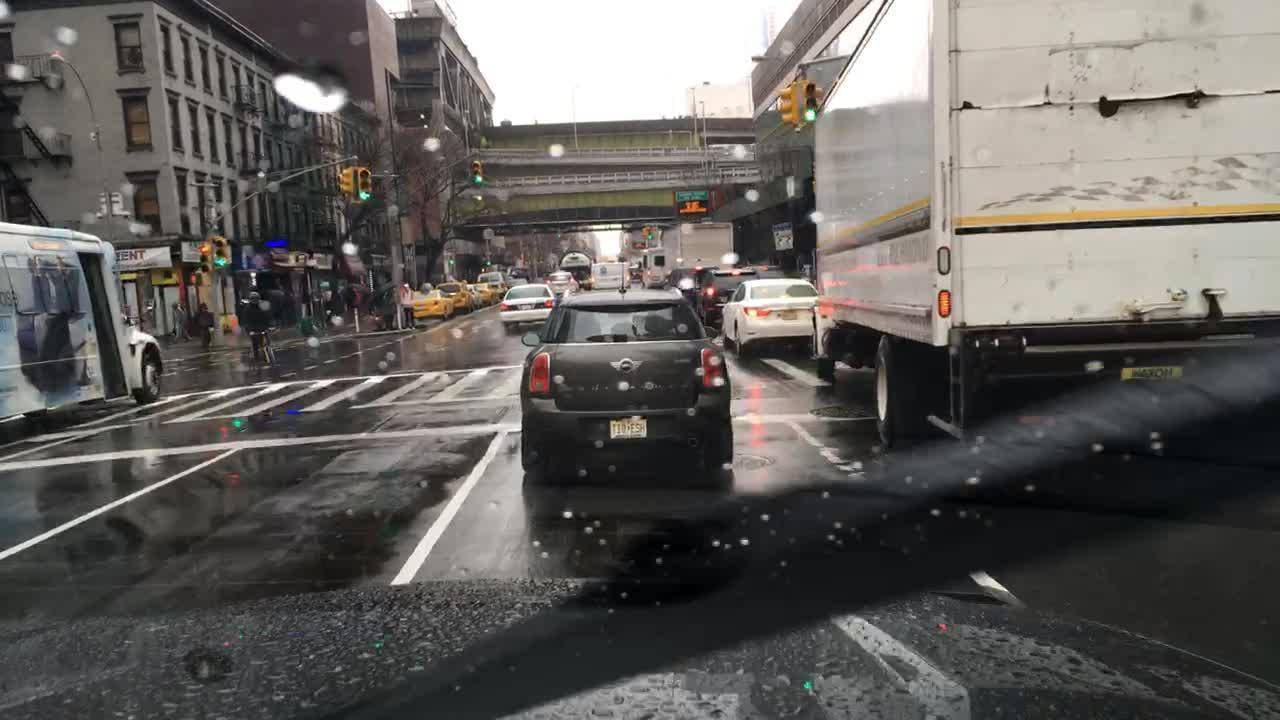mini: (606, 357, 647, 376)
